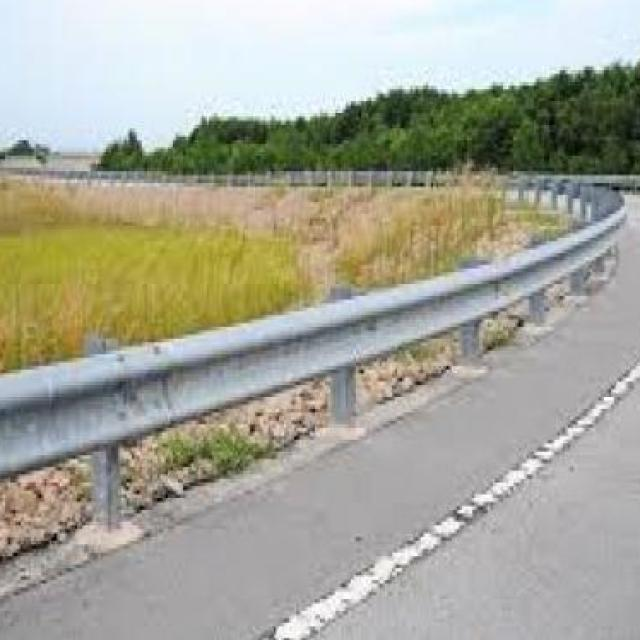Guard rail: (0, 184, 626, 573)
